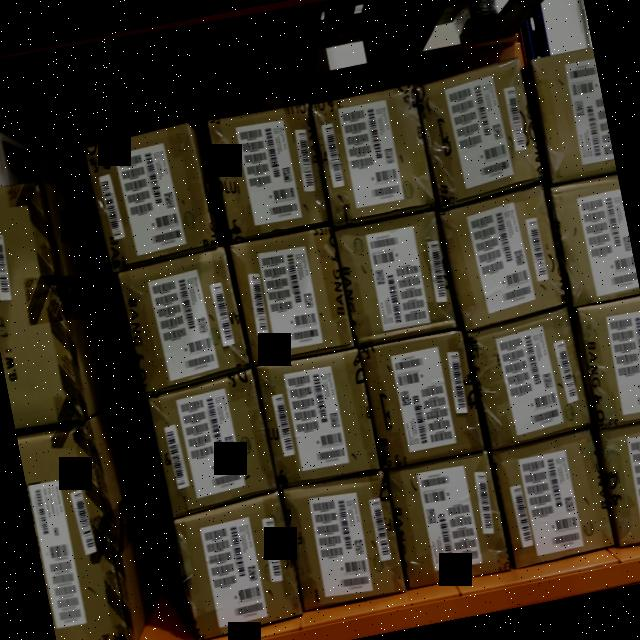box: (256, 348, 382, 486), (228, 226, 354, 364), (86, 126, 210, 266), (312, 86, 435, 226), (174, 498, 299, 634), (147, 377, 276, 507), (121, 250, 246, 384), (207, 103, 331, 238), (419, 65, 542, 201), (283, 472, 406, 606), (492, 431, 616, 563), (362, 328, 482, 462), (442, 194, 566, 322), (336, 211, 456, 343), (388, 454, 508, 584), (470, 316, 587, 446)
